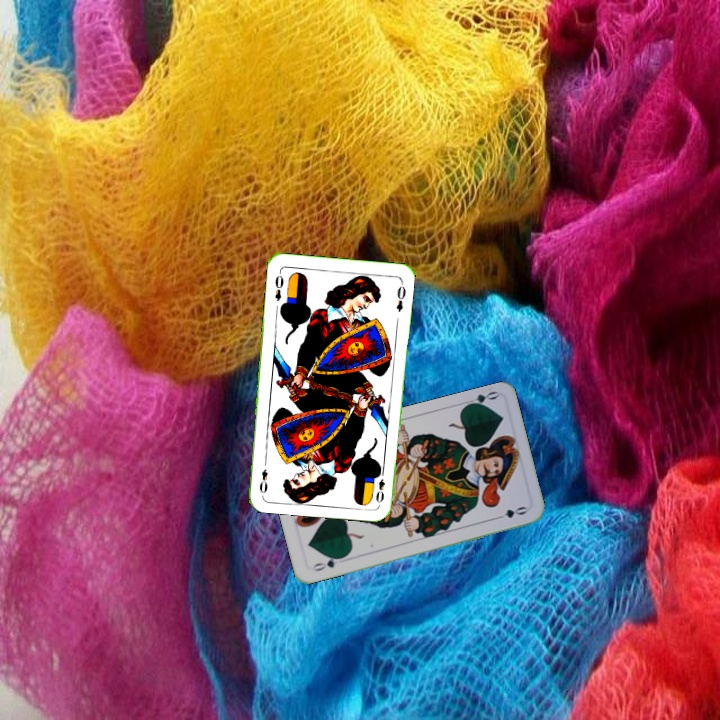EO: (372, 466, 387, 506), (271, 268, 286, 304)
GO: (460, 387, 500, 409), (309, 553, 347, 574)
